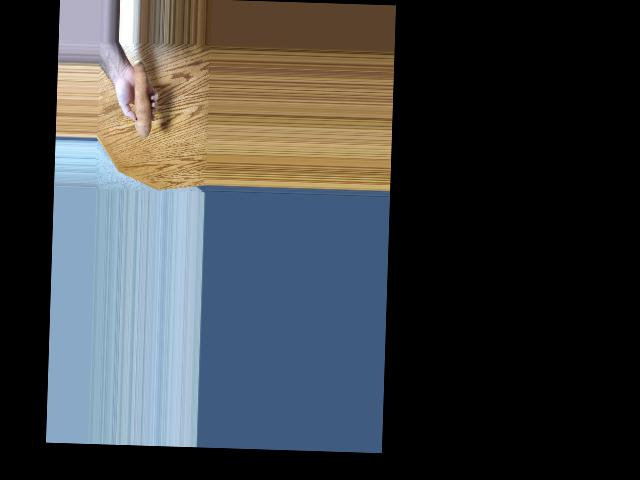sweet_potato: (132, 63, 158, 140)
